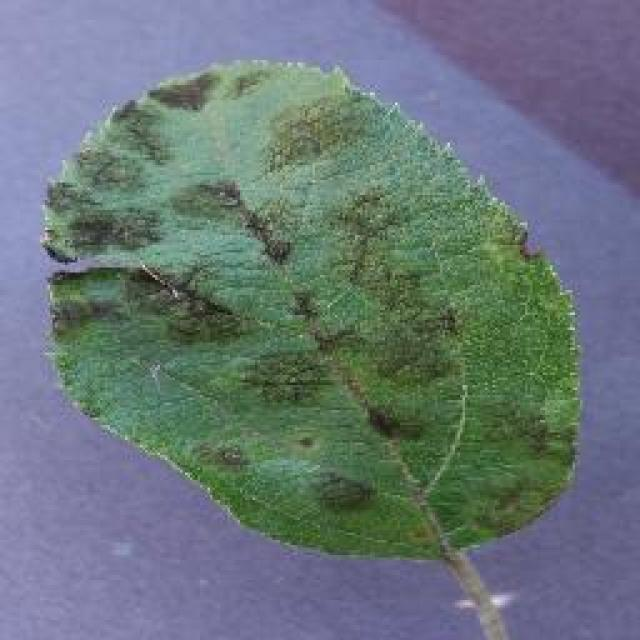apple scab disease: (38, 55, 582, 565)
